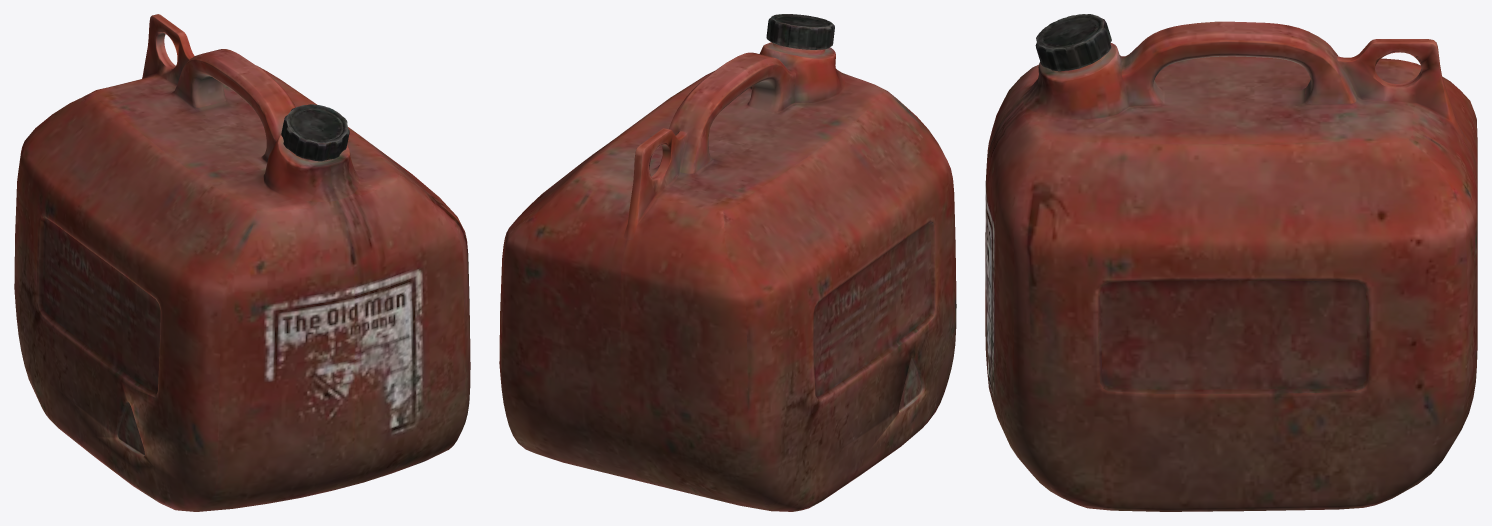
The model's file is plastic_jerrycan.glb.
3 renders of one model, left to right at view 1: azimuth 30°, elevation 25°; view 2: azimuth 150°, elevation 25°; view 3: azimuth 270°, elevation 25°, orthographic. The views are drawn at different scales.
Parts seen in each view (by area): view 1: plastic_jerrycan; view 2: plastic_jerrycan; view 3: plastic_jerrycan.
Boxes of the visible parts, box(x1,y1,x2,y2) form: plastic_jerrycan: box(14, 14, 470, 511); plastic_jerrycan: box(499, 14, 956, 511); plastic_jerrycan: box(985, 14, 1477, 511).
Size of the model in its own units: 0.268 by 0.3184 by 0.3408.
1 material, 1 textured.
